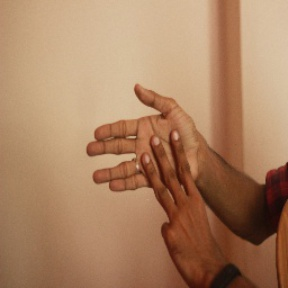M: (79, 80, 213, 233)
